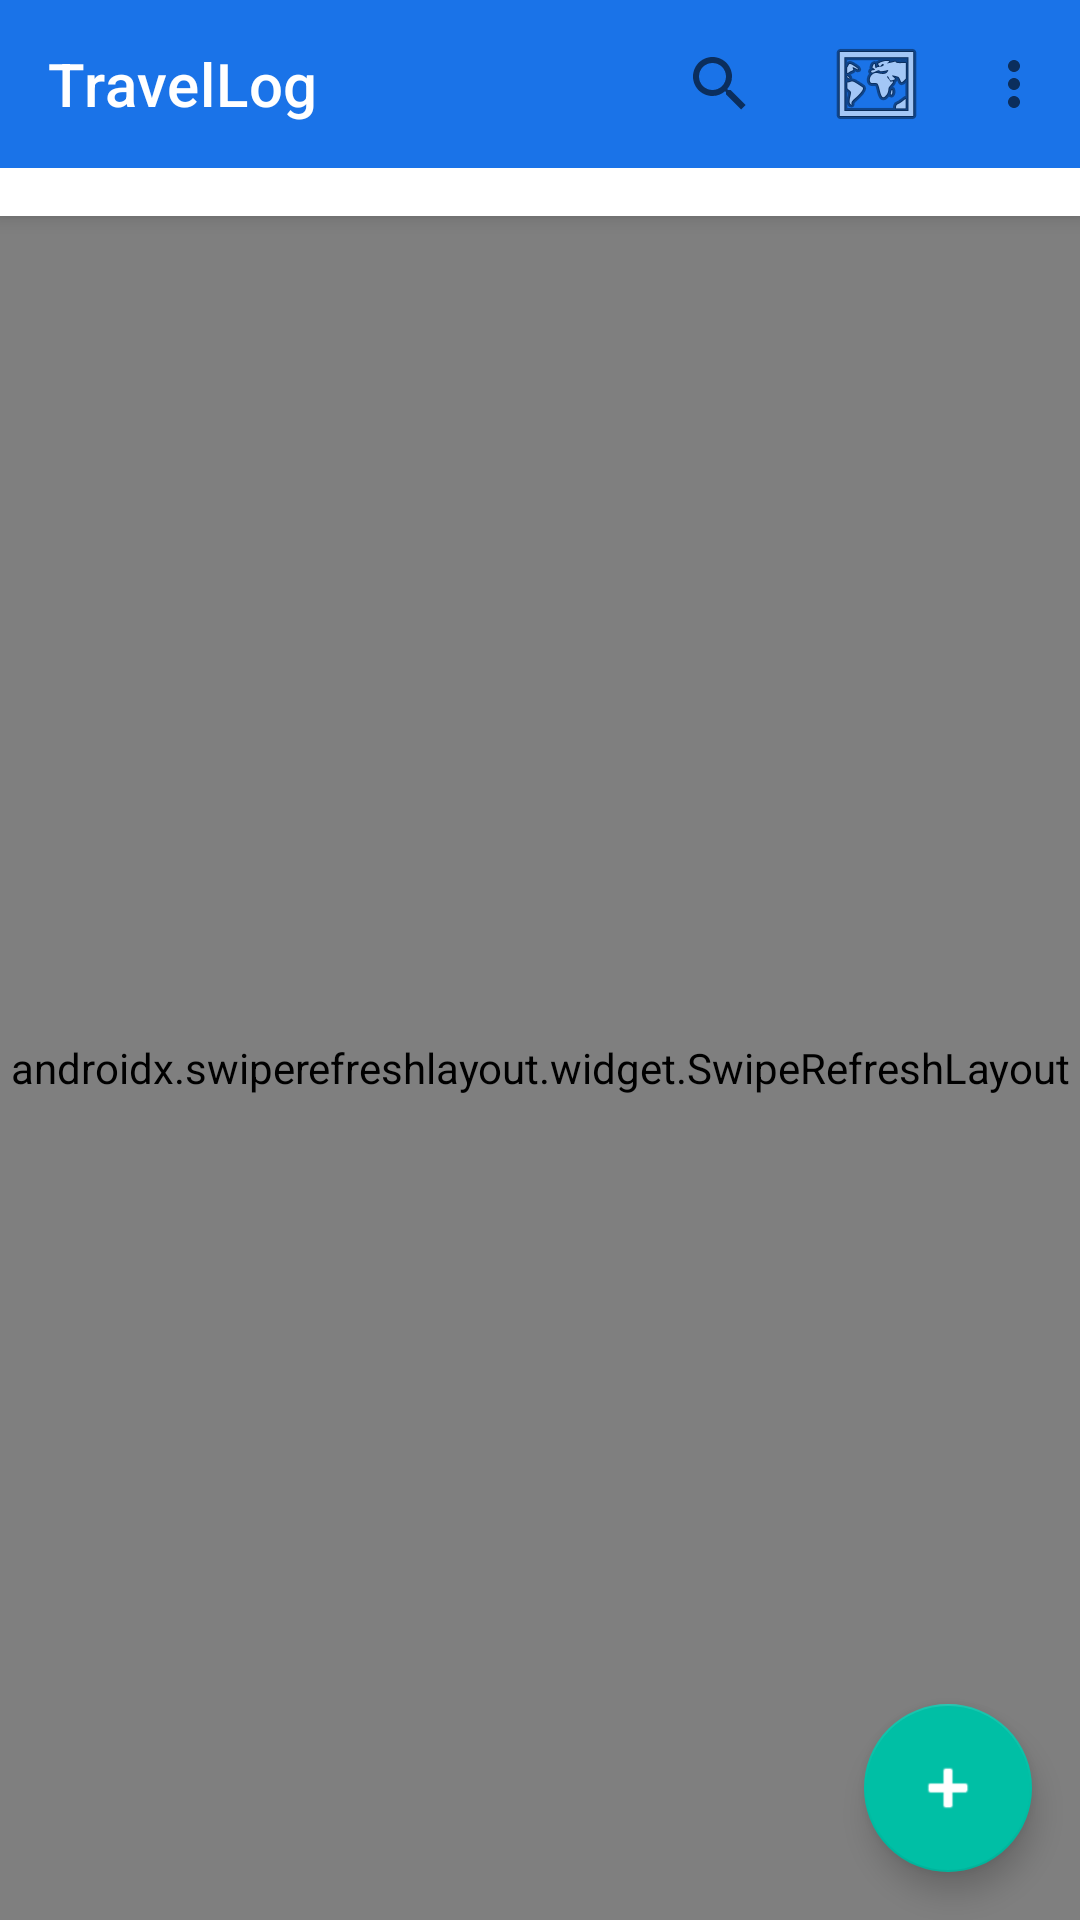

Where icons sit on this 1080 x 1920 app screen, as (x1, y1, x2, y2):
Add Place: (864, 1704, 1032, 1872)
